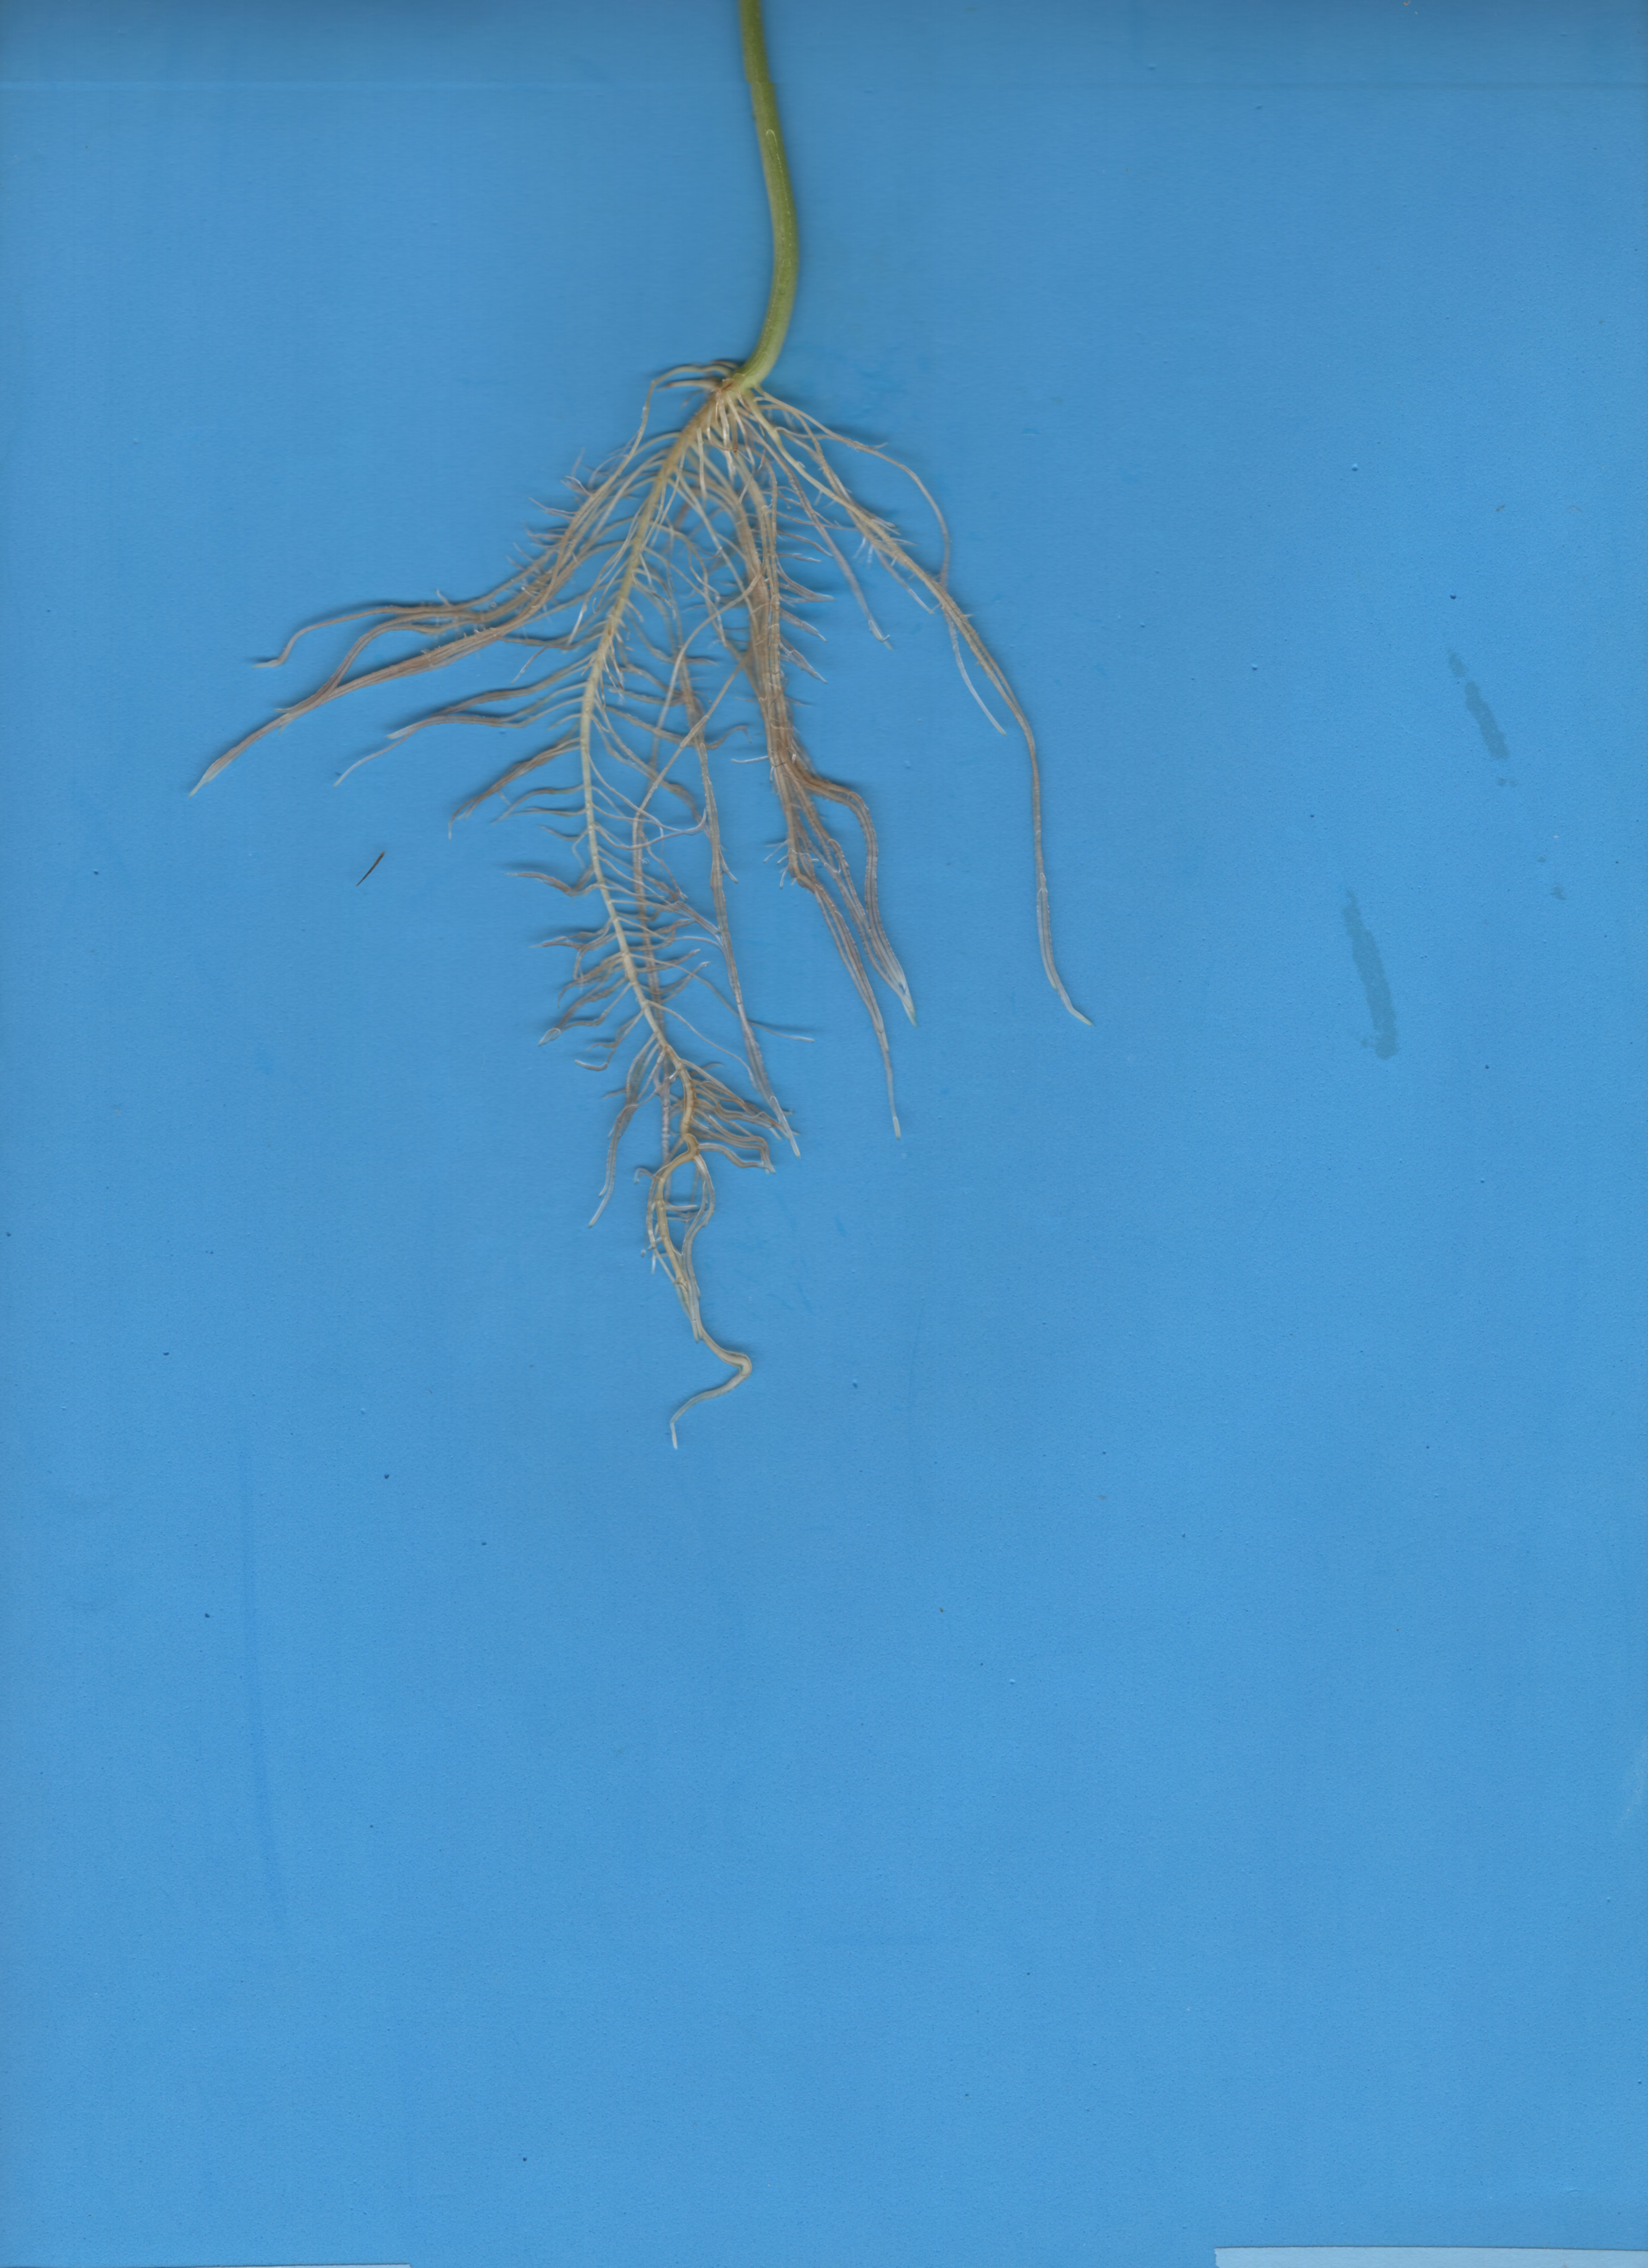CROWNGOOD: (687, 0, 850, 398)
ROOTGOOD: (160, 347, 1187, 1419)
